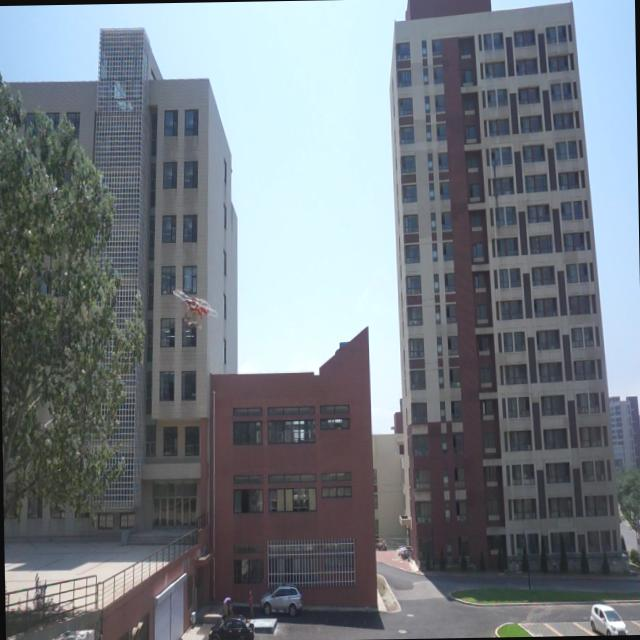drone: (171, 282, 222, 332)
